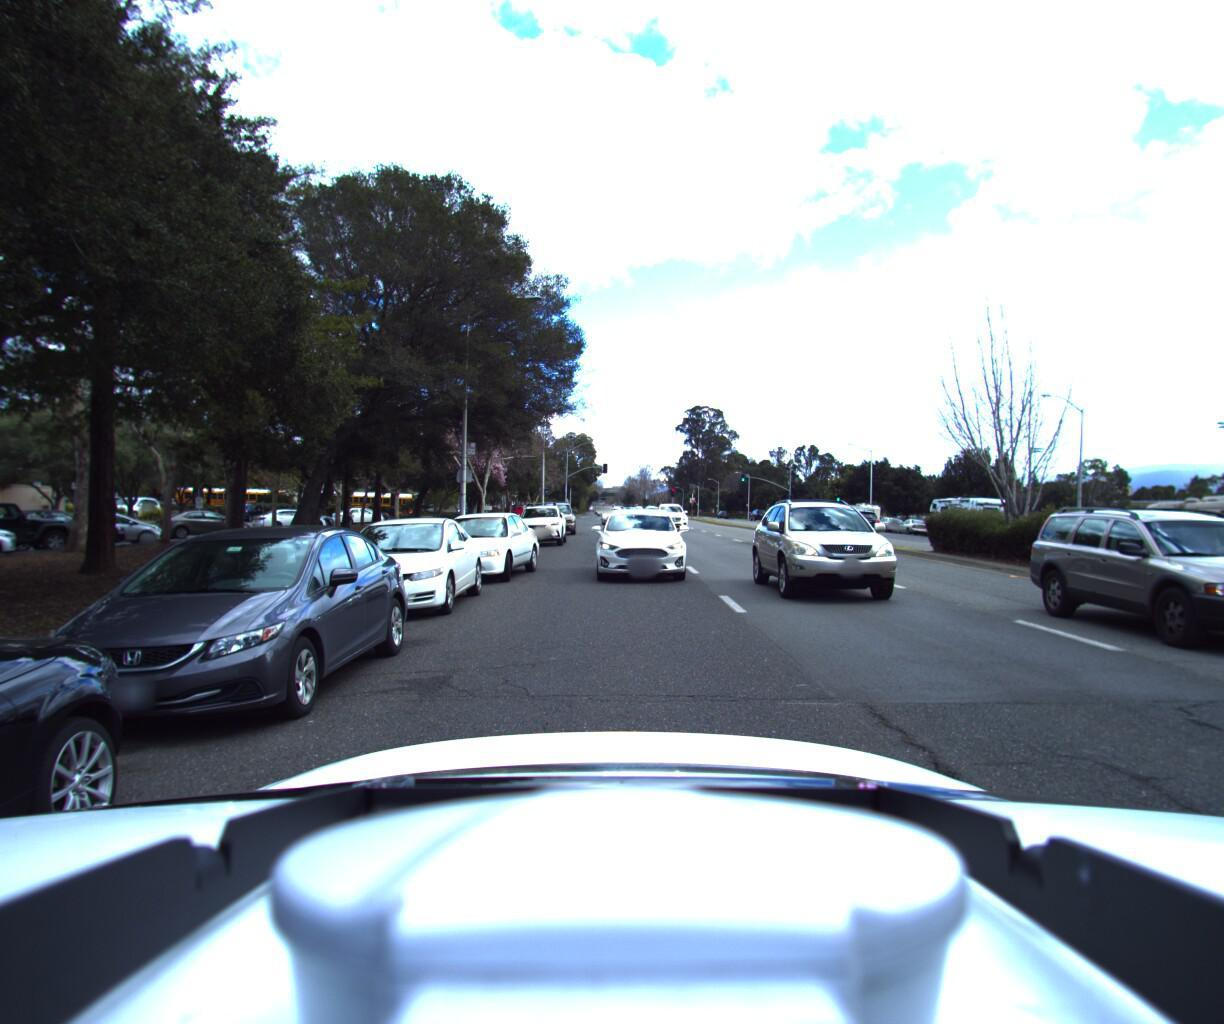car: (0, 520, 422, 758), (0, 563, 183, 1024), (1061, 494, 1224, 701), (752, 486, 957, 626), (309, 515, 487, 626), (408, 511, 545, 592), (585, 503, 701, 597), (512, 503, 567, 550), (539, 502, 578, 539), (652, 506, 693, 538), (890, 519, 933, 538), (867, 517, 909, 535), (596, 504, 625, 528)
other_vehicle: (1115, 491, 1224, 580), (918, 492, 1009, 544), (837, 503, 884, 533)
